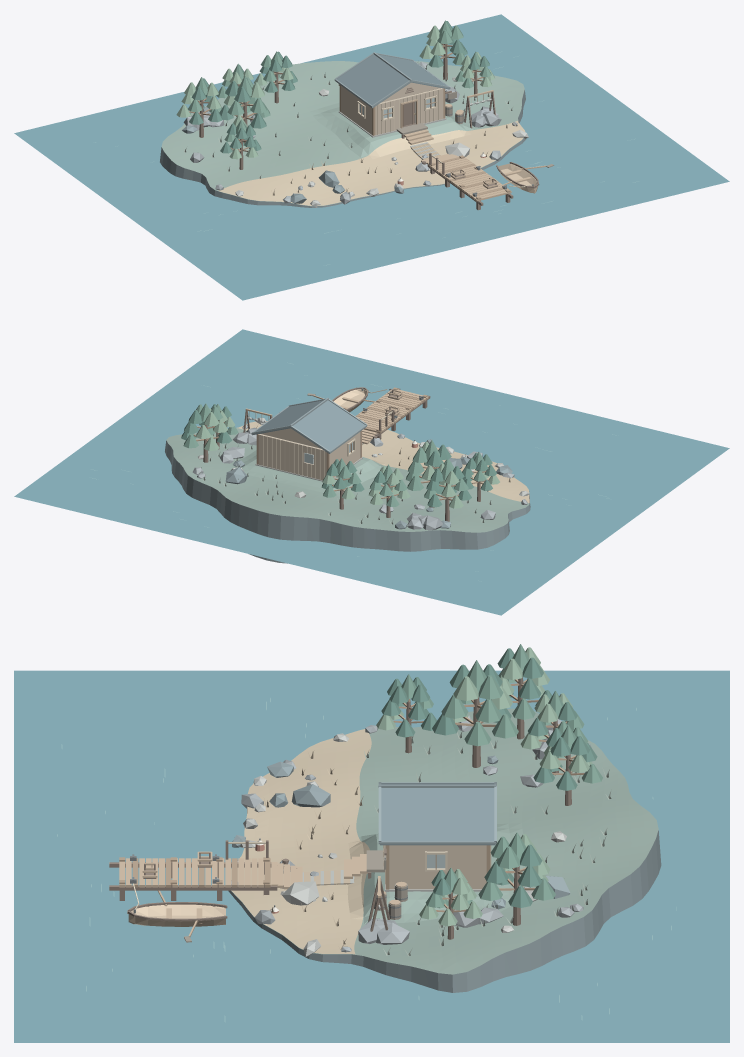
Rendered from coastal-fishing-hut-pier-yup.glb.
3 views of the same model, one above another, from view 1: azimuth 30°, elevation 25°; view 2: azimuth 150°, elevation 25°; view 3: azimuth 270°, elevation 25° (orthographic). The views are drawn at different scales.
Visible parts, largest first — view 1: sea__water, terrain__grass, terrain__sand, trees__leaf_dark, hut__roof, hut__wall, trees__leaf, trees__leaf_light, terrain__rock_dark, pier__wood_light, nature__rock, hut__roof_light (+7 smaller); view 2: sea__water, terrain__grass, terrain__rock_dark, hut__wall, trees__leaf_dark, trees__leaf, hut__roof, terrain__sand, trees__leaf_light, nature__rock, pier__wood_light, nature__rock_dark (+3 smaller); view 3: sea__water, terrain__grass, terrain__sand, terrain__rock_dark, trees__leaf_dark, hut__roof, trees__leaf, trees__leaf_light, pier__wood_light, hut__wall, nature__rock, nature__rock_dark (+12 smaller).
Boxes of the visible parts, left/top/right/bottom form: sea__water: left=14, top=14, right=729, bottom=300; terrain__grass: left=161, top=61, right=524, bottom=206; terrain__sand: left=218, top=121, right=525, bottom=205; trees__leaf_dark: left=189, top=21, right=489, bottom=153; hut__roof: left=335, top=54, right=449, bottom=108; hut__wall: left=341, top=82, right=443, bottom=135; trees__leaf: left=188, top=20, right=491, bottom=141; trees__leaf_light: left=176, top=25, right=494, bottom=159; terrain__rock_dark: left=160, top=90, right=526, bottom=207; pier__wood_light: left=421, top=154, right=511, bottom=201; nature__rock: left=183, top=61, right=501, bottom=190; hut__roof_light: left=334, top=52, right=450, bottom=107; sea__water: left=14, top=329, right=729, bottom=615; terrain__grass: left=166, top=428, right=529, bottom=532; terrain__rock_dark: left=165, top=440, right=530, bottom=563; hut__wall: left=258, top=428, right=360, bottom=480; trees__leaf_dark: left=181, top=404, right=496, bottom=507; trees__leaf: left=183, top=403, right=485, bottom=506; hut__roof: left=252, top=400, right=365, bottom=453; terrain__sand: left=237, top=421, right=529, bottom=503; trees__leaf_light: left=196, top=408, right=499, bottom=508; nature__rock: left=192, top=427, right=495, bottom=530; pier__wood_light: left=355, top=389, right=428, bottom=444; nature__rock_dark: left=225, top=439, right=512, bottom=529; sea__water: left=14, top=670, right=729, bottom=1042; terrain__grass: left=231, top=708, right=658, bottom=974; terrain__sand: left=231, top=729, right=371, bottom=954; terrain__rock_dark: left=228, top=808, right=661, bottom=992; trees__leaf_dark: left=381, top=648, right=597, bottom=907; hut__roof: left=380, top=783, right=495, bottom=845; trees__leaf: left=401, top=644, right=602, bottom=908; trees__leaf_light: left=376, top=647, right=592, bottom=926; pier__wood_light: left=119, top=858, right=302, bottom=889; hut__wall: left=389, top=845, right=486, bottom=889; nature__rock: left=280, top=715, right=583, bottom=944; nature__rock_dark: left=232, top=743, right=592, bottom=909.
Bounding box in the file's own units: 48 × 9.63 × 39.
